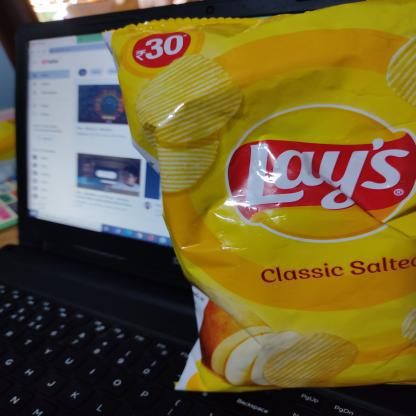classicsalted: (99, 0, 415, 393)
